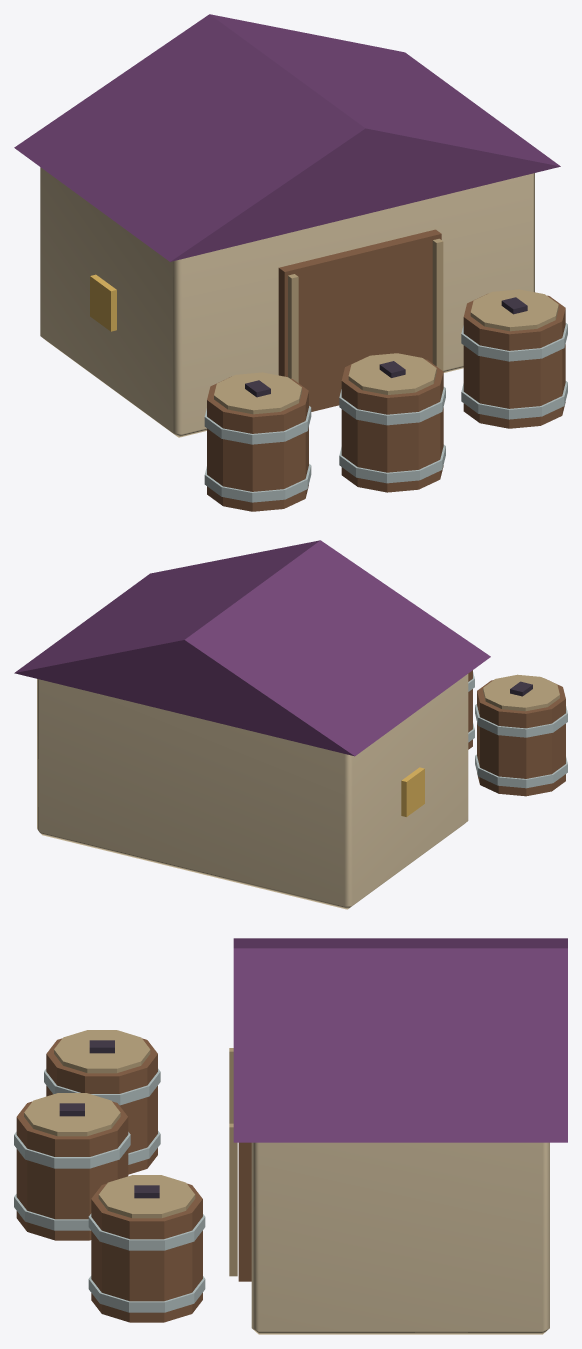
Rendered from warehouse.glb.
The picture shows the model from 3 angles, top to bottom: view 1: azimuth 30°, elevation 25°; view 2: azimuth 150°, elevation 25°; view 3: azimuth 270°, elevation 25°; orthographic projection. The views are drawn at different scales.
Visible parts, largest first — view 1: gable.005, Cube.031, Cube.034, Cone.138, Cone.134, Cone.130, Cone.141, Cone.137, Cone.133, Cube.036, Cone.132, Cone.131 (+6 smaller); view 2: Cube.031, gable.005, Cone.130, Cone.133, Cone.132, Cone.131, Cube.033; view 3: gable.005, Cube.031, Cone.138, Cone.134, Cone.130, Cone.141, Cone.137, Cone.133, Cube.034, Cone.140, Cone.139, Cone.136 (+3 smaller).
Part boxes in pixels (box(x1,y1,x2,y2)): gable.005: box(14, 14, 560, 261); Cube.031: box(40, 167, 534, 437); Cube.034: box(278, 229, 441, 411); Cone.138: box(463, 294, 565, 428); Cone.134: box(341, 357, 443, 492); Cone.130: box(207, 376, 308, 511); Cone.141: box(470, 289, 558, 331); Cone.137: box(348, 353, 436, 394); Cone.133: box(214, 372, 301, 414); Cube.036: box(432, 238, 443, 370); Cone.132: box(204, 406, 311, 444); Cone.131: box(204, 464, 311, 502); Cube.031: box(37, 674, 468, 909); gable.005: box(14, 540, 490, 756); Cone.130: box(477, 679, 565, 796); Cone.133: box(483, 674, 559, 711); Cone.132: box(475, 704, 567, 737); Cone.131: box(475, 754, 567, 788); Cube.033: box(401, 767, 424, 816); gable.005: box(233, 938, 567, 1142); Cube.031: box(251, 1142, 549, 1334); Cone.138: box(91, 1183, 202, 1322); Cone.134: box(16, 1101, 128, 1240); Cone.130: box(46, 1038, 157, 1174); Cone.141: box(98, 1175, 195, 1218); Cone.137: box(24, 1093, 120, 1136); Cone.133: box(54, 1030, 150, 1073); Cube.034: box(238, 1142, 251, 1281); Cone.140: box(88, 1213, 205, 1250); Cone.139: box(88, 1276, 205, 1312); Cone.136: box(14, 1131, 130, 1168).
Bounding box in the file's own units: 1.7 × 1.09 × 1.86.
